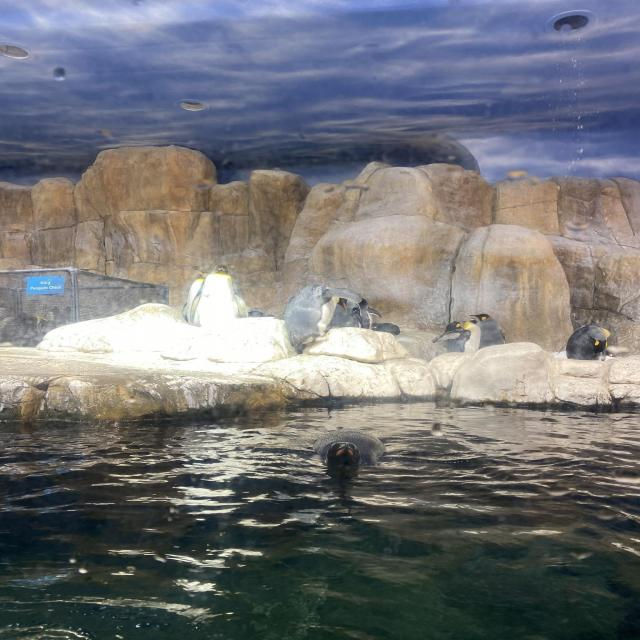penguin: (274, 285, 362, 355), (190, 265, 248, 327), (315, 427, 387, 473), (555, 324, 610, 362), (182, 267, 210, 327), (431, 321, 480, 355), (470, 314, 508, 350)
